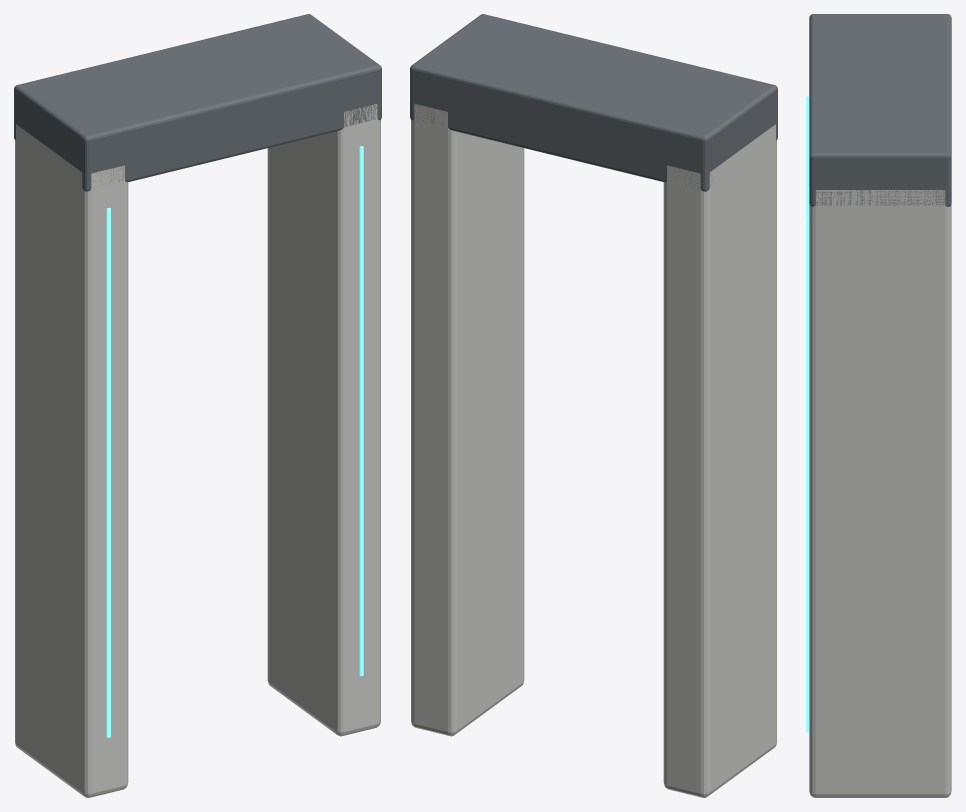
Rendered from walkthrough-detector.glb.
The picture shows the model from 3 angles, left to right: view 1: azimuth 30°, elevation 25°; view 2: azimuth 150°, elevation 25°; view 3: azimuth 270°, elevation 25°; orthographic projection. The views are drawn at different scales.
Visible parts, largest first — view 1: DetectorPost-0.45, DetectorPost0.45, DetectorHeader, StatusStrip0.45, StatusStrip-0.45; view 2: DetectorPost-0.45, DetectorPost0.45, DetectorHeader; view 3: DetectorPost0.45, DetectorHeader, StatusStrip0.45, StatusStrip-0.45.
Boxes of the visible parts, box(x1,y1,x2,y2) form: DetectorPost-0.45: box(15, 124, 128, 797); DetectorPost0.45: box(267, 104, 380, 736); DetectorHeader: box(14, 14, 381, 191); StatusStrip0.45: box(359, 146, 363, 676); StatusStrip-0.45: box(106, 207, 110, 737); DetectorPost-0.45: box(663, 124, 776, 797); DetectorPost0.45: box(411, 103, 524, 736); DetectorHeader: box(410, 14, 777, 191); DetectorPost0.45: box(809, 190, 951, 797); DetectorHeader: box(809, 14, 951, 206); StatusStrip0.45: box(806, 216, 808, 732); StatusStrip-0.45: box(806, 96, 808, 216).
Size of the model in its own units: 1.06 by 2.26 by 0.459.
